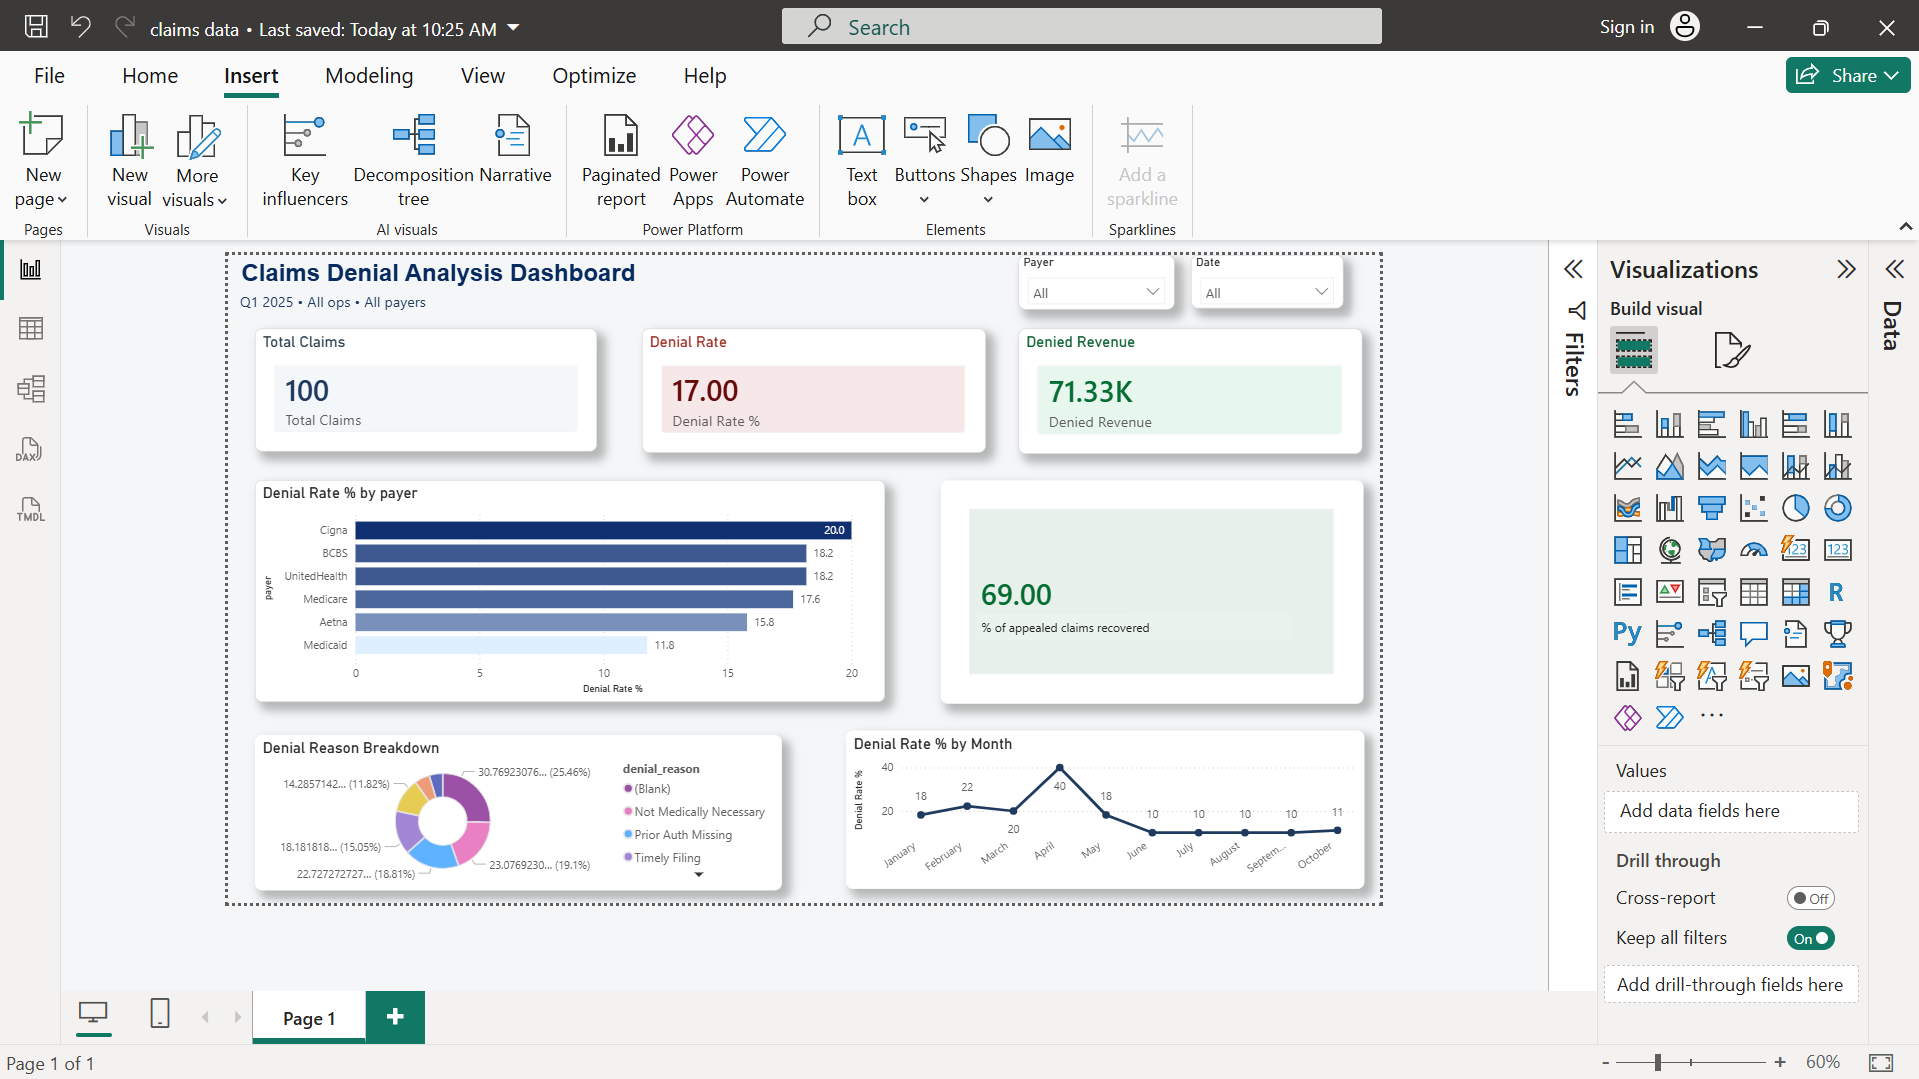

Layout of this report page (visuals, bound fields, positions):
{"tool":"powerbi","page":{"name":"Page 1","canvas":[1280,720],"ordinal":0},"visuals":[{"type":"slicer","title":"Payer","fields":{"Values":["Raw Data.payer"]},"box":[878.9,0,173.2,60.6],"z":0},{"type":"cardVisual","title":"Total Claims","fields":{"Data":["Raw Data.Total Claims"]},"box":[30,81.7,380,136.7],"z":1000},{"type":"cardVisual","title":"Denial Rate","fields":{"Data":["Raw Data.Denial Rate %"]},"box":[460.6,81.7,381.7,138],"z":2000},{"type":"cardVisual","title":"Denied Revenue","fields":{"Data":["Raw Data.Denied Revenue"]},"box":[878.9,81.7,381.7,139.4],"z":3000},{"type":"clusteredBarChart","fields":{"Y":["Raw Data.Denial Rate %"],"Category":["Raw Data.payer"]},"box":[29.3,250,700,246.6],"z":4000},{"type":"lineChart","fields":{"Category":["Raw Data.date.Variation.Date Hierarchy.Month"],"Y":["Raw Data.Denial Rate %"]},"box":[685.9,528.2,576.1,176.1],"z":5000},{"type":"donutChart","title":"Denial Reason Breakdown","fields":{"Category":["Raw Data.denial_reason"],"Y":["Raw Data.Denial Rate %"]},"box":[30,532.5,585,172.5],"z":6000},{"type":"slicer","title":"Date","fields":{"Values":["Raw Data.date"]},"box":[1070.4,0,169,59.2],"z":7000},{"type":"cardVisual","fields":{"Data":["Raw Data.Appeals Won %"]},"box":[792.4,250,469.7,248.5],"z":8000},{"type":"textbox","box":[831.8,398.5,350,30.3],"z":9000},{"type":"textbox","box":[9.2,0,600,50],"z":9001},{"type":"textbox","box":[8.6,35.7,441.4,40],"z":9002}]}

Visuals, with their boxes on the page's 1280x720 design canvas (x1, y1, x2, y2). These are canvas units, not pixel positions in the 1919x1079 screenshot, which may show the page scaled, cropped or inside an application window:
"Payer" slicer: BBox(879, 0, 1052, 61)
"Total Claims" cardVisual: BBox(30, 82, 410, 218)
"Denial Rate" cardVisual: BBox(461, 82, 842, 220)
"Denied Revenue" cardVisual: BBox(879, 82, 1261, 221)
clusteredBarChart - Raw Data.Denial Rate % x Raw Data.payer: BBox(29, 250, 729, 497)
lineChart - Raw Data.date.Variation.Date Hierarchy.Month x Raw Data.Denial Rate %: BBox(686, 528, 1262, 704)
"Denial Reason Breakdown" donutChart: BBox(30, 532, 615, 705)
"Date" slicer: BBox(1070, 0, 1239, 59)
cardVisual - Raw Data.Appeals Won %: BBox(792, 250, 1262, 498)
textbox: BBox(832, 398, 1182, 429)
textbox: BBox(9, 0, 609, 50)
textbox: BBox(9, 36, 450, 76)
